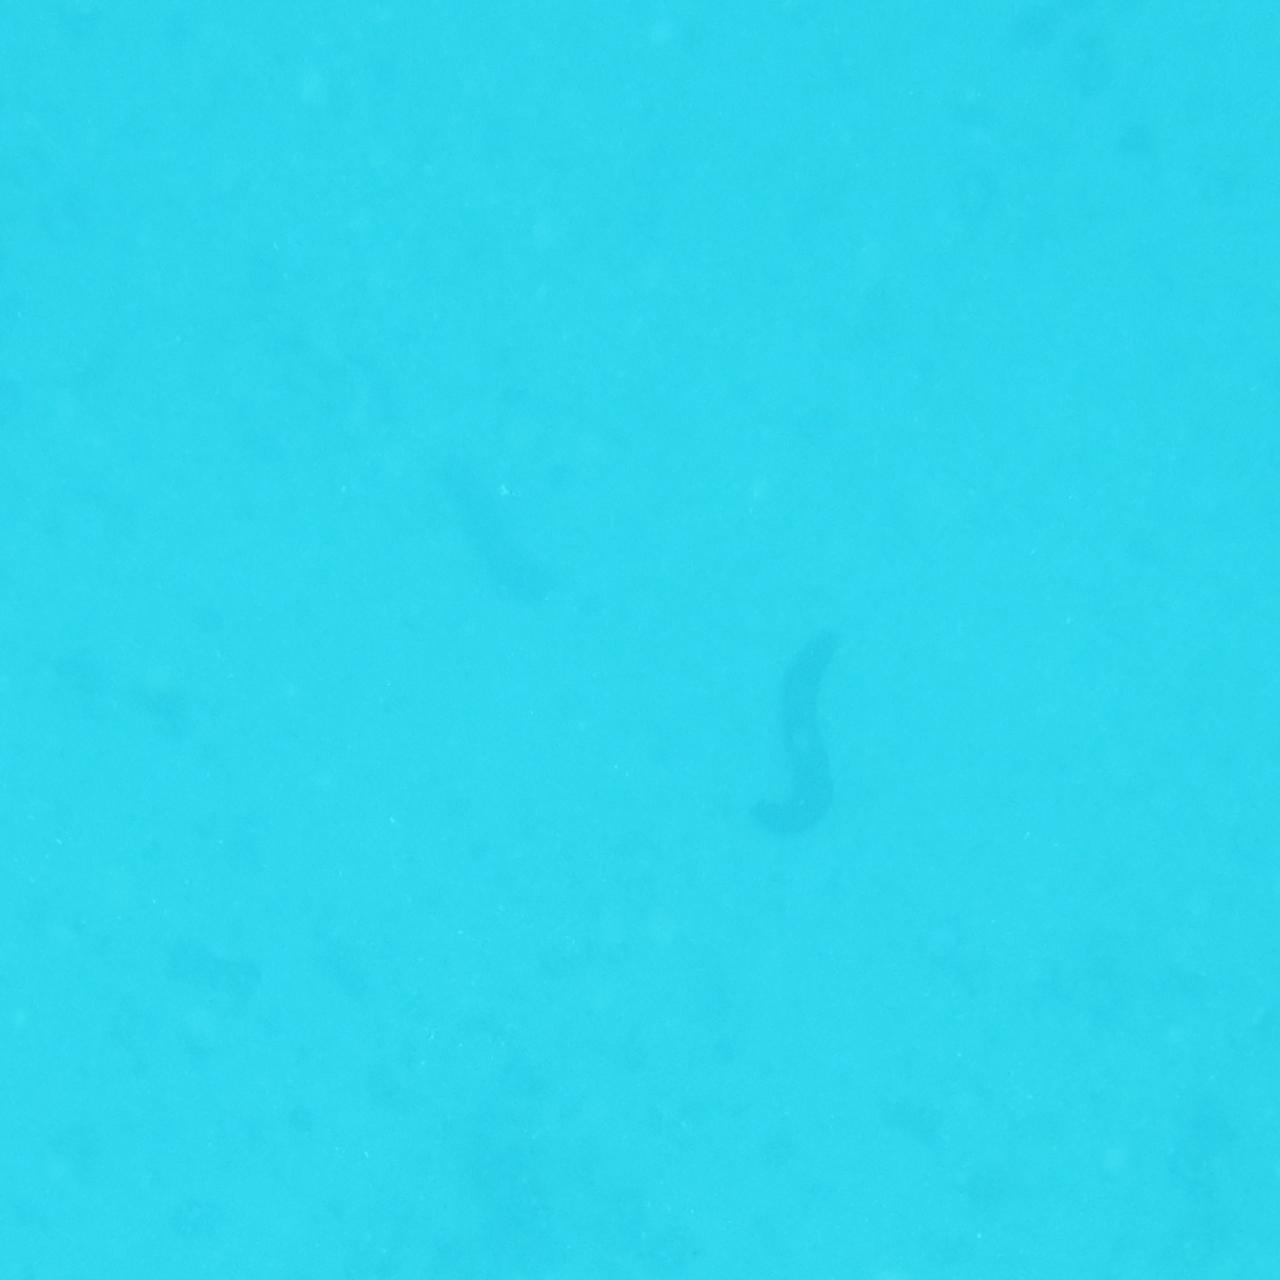Holothuria tubulosa: (735, 636, 881, 852), (400, 455, 546, 618)
